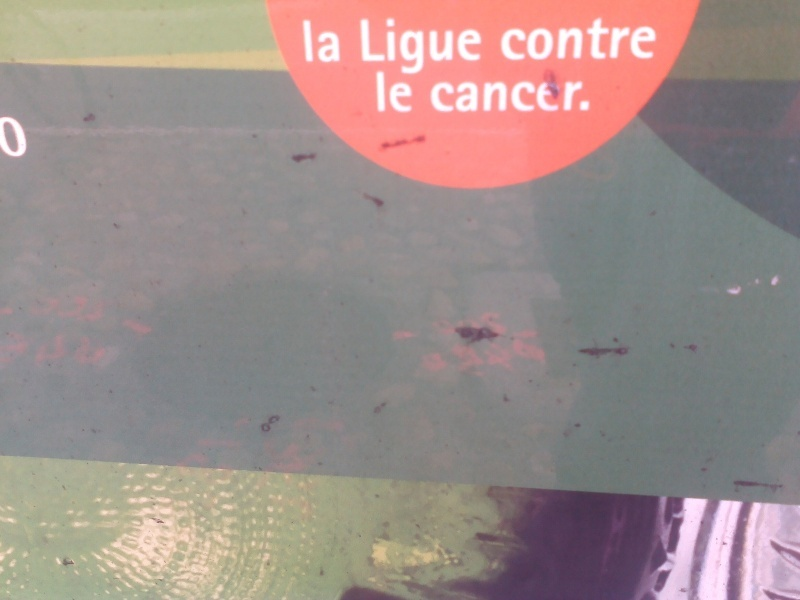text: (369, 17, 384, 76), (385, 17, 400, 76), (401, 17, 416, 76), (417, 17, 432, 76), (433, 17, 448, 76), (449, 17, 464, 76), (465, 17, 480, 76), (305, 16, 320, 64), (321, 16, 336, 64), (385, 68, 400, 115), (513, 18, 528, 61), (529, 18, 544, 61), (545, 18, 560, 61), (561, 18, 576, 61), (577, 18, 592, 61), (593, 18, 608, 61), (609, 18, 624, 61), (625, 18, 640, 61), (641, 18, 656, 61), (1, 117, 16, 158), (401, 68, 414, 115), (433, 81, 448, 114), (449, 81, 464, 114), (465, 81, 480, 114), (481, 81, 496, 114), (497, 81, 512, 114), (513, 81, 528, 114), (529, 81, 544, 114), (545, 81, 560, 114), (561, 81, 576, 114), (17, 117, 29, 158), (501, 18, 512, 61), (360, 17, 368, 76), (374, 68, 384, 115), (577, 81, 591, 114), (337, 16, 343, 64), (481, 17, 483, 76), (302, 16, 304, 64), (657, 18, 658, 61), (431, 81, 432, 114)
